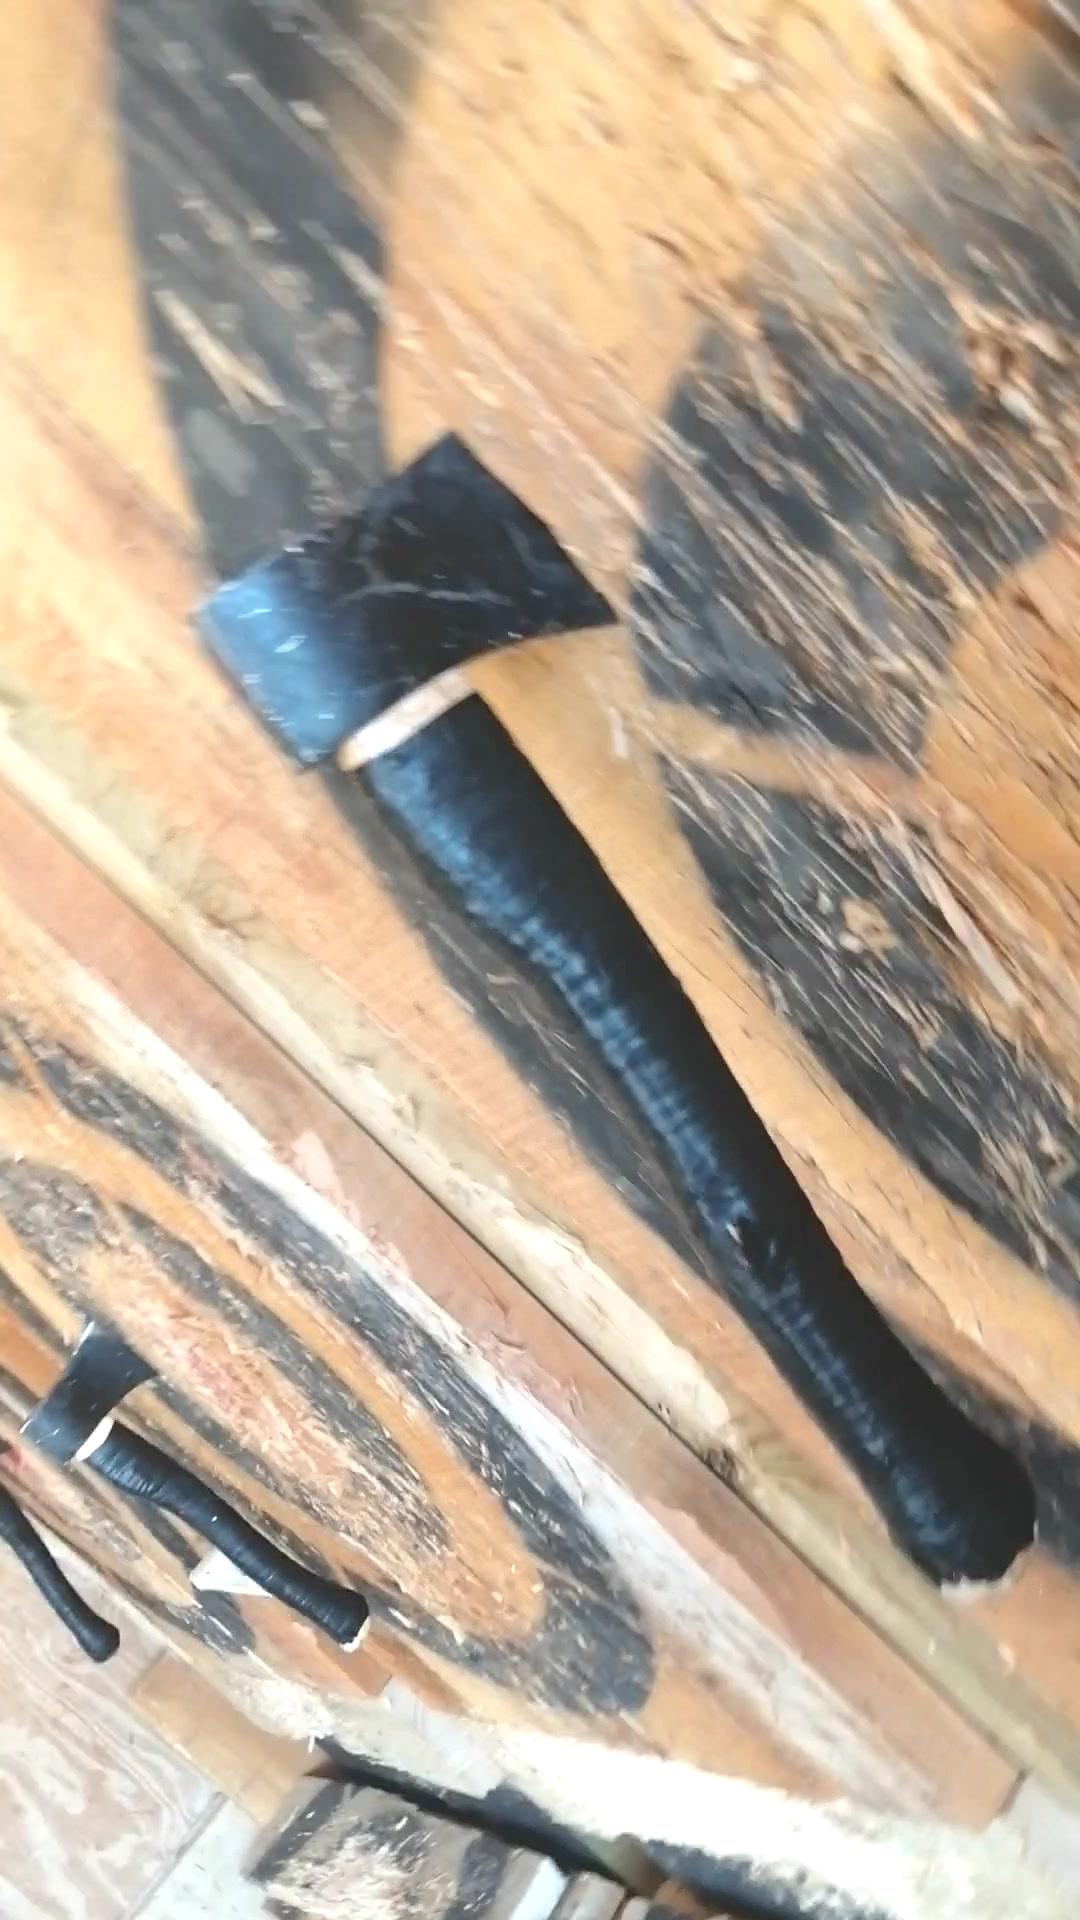Hand Axe: (183, 430, 622, 779)
